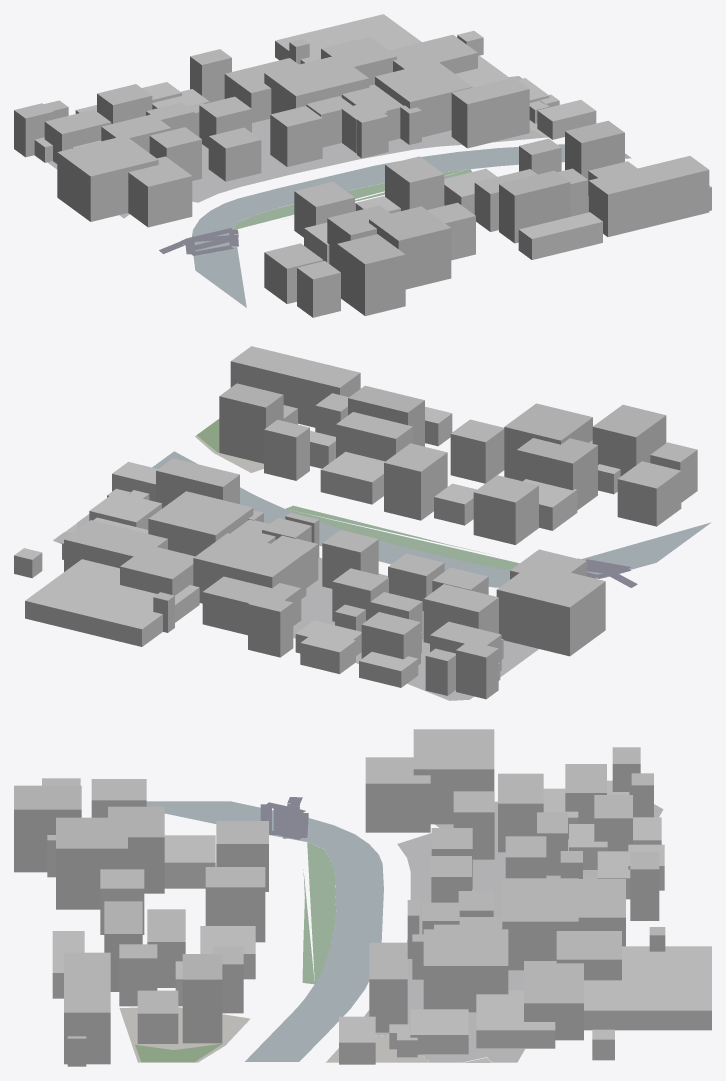
The model's file is 116_99_mid.glb.
The picture shows the model from 3 angles, top to bottom: view 1: azimuth 30°, elevation 25°; view 2: azimuth 150°, elevation 25°; view 3: azimuth 270°, elevation 25°; orthographic projection. The views are drawn at different scales.
Bounding box in the file's own units: 540 × 57.28 × 565.
